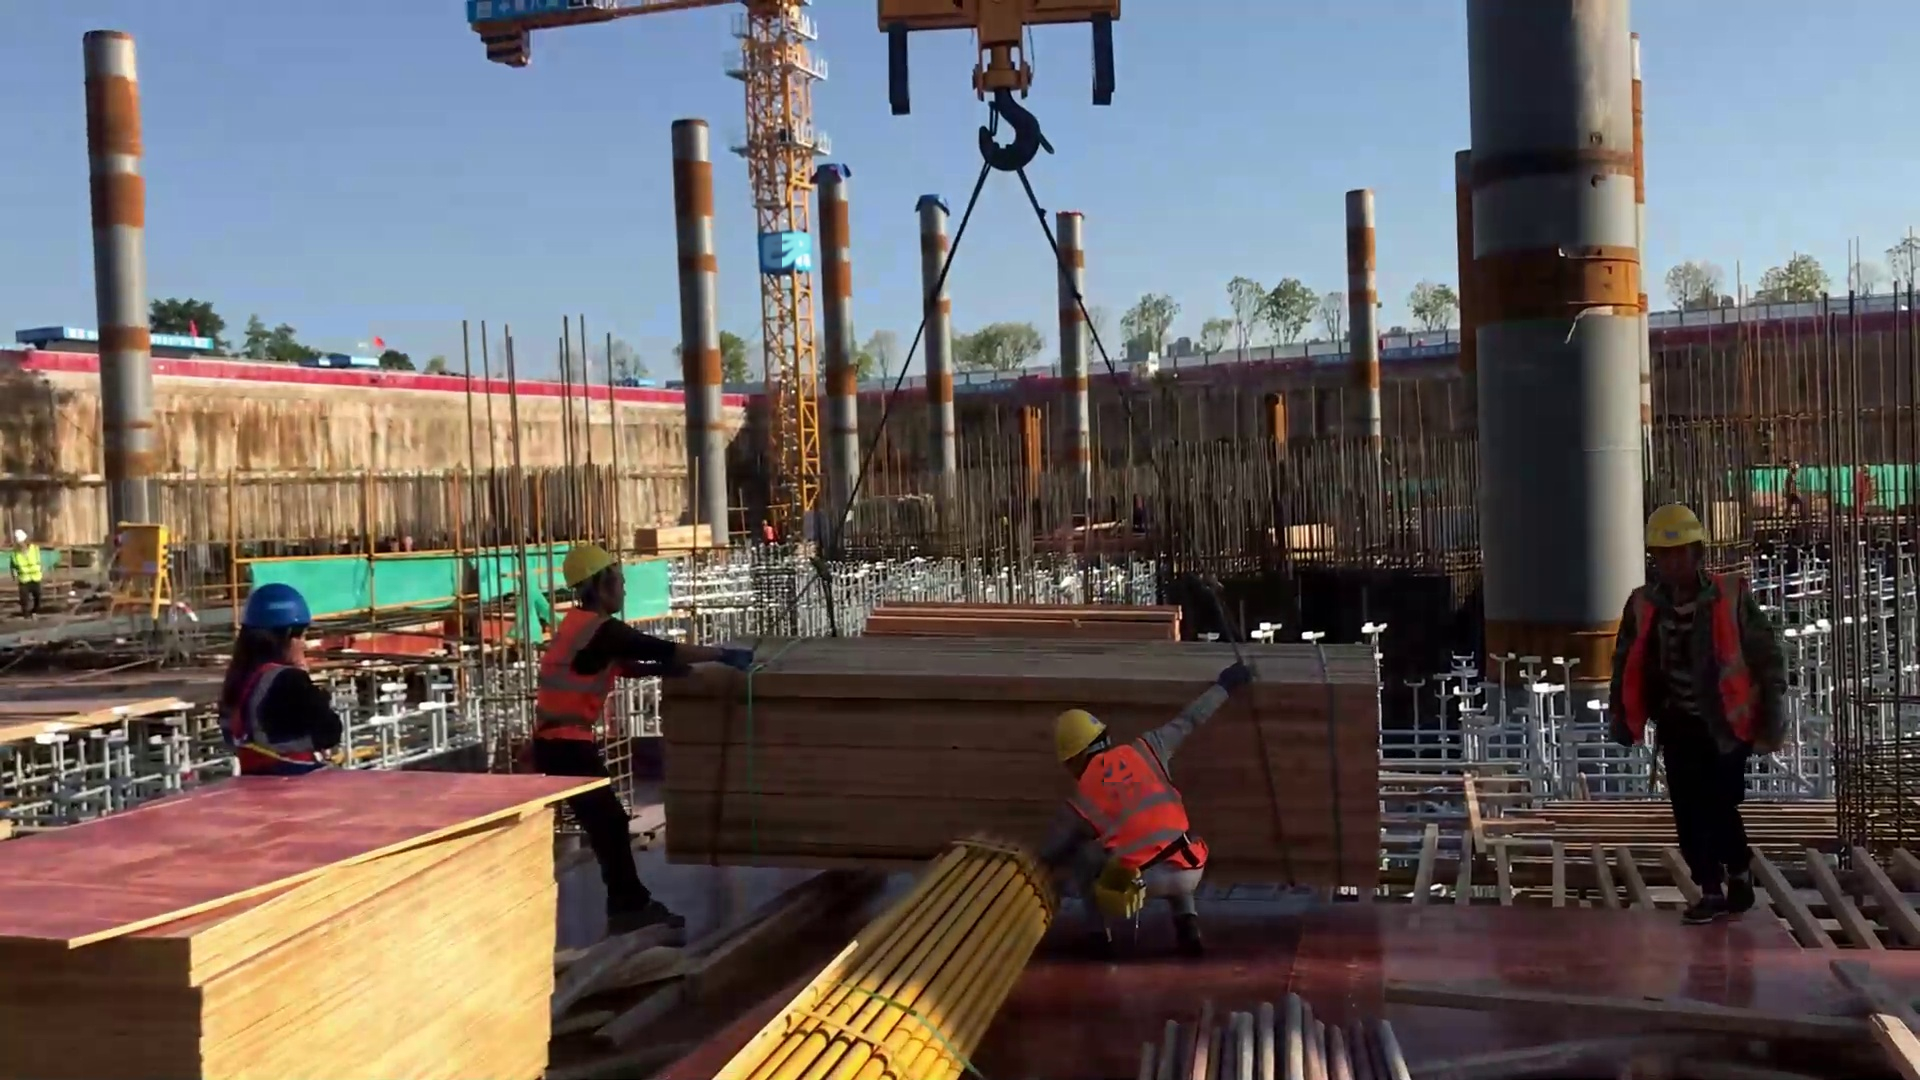helmet: (1635, 492, 1717, 556), (1035, 693, 1121, 754), (228, 572, 323, 627), (548, 527, 631, 583), (11, 526, 40, 553)
person: (513, 538, 758, 926), (1597, 497, 1790, 920), (1006, 646, 1289, 929), (1046, 707, 1212, 929), (215, 579, 361, 780), (5, 524, 47, 608)
vest: (1605, 569, 1773, 746), (1056, 735, 1209, 870), (529, 604, 624, 737), (224, 664, 324, 765), (15, 547, 43, 583)
